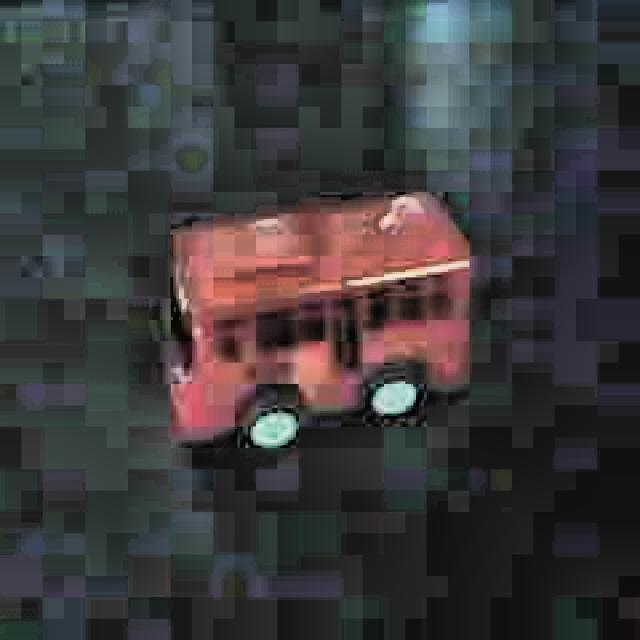bus: (155, 187, 473, 462)
